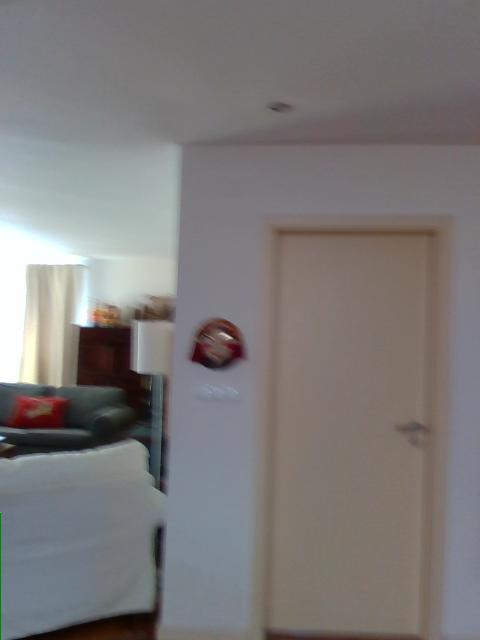door: (249, 203, 455, 639)
